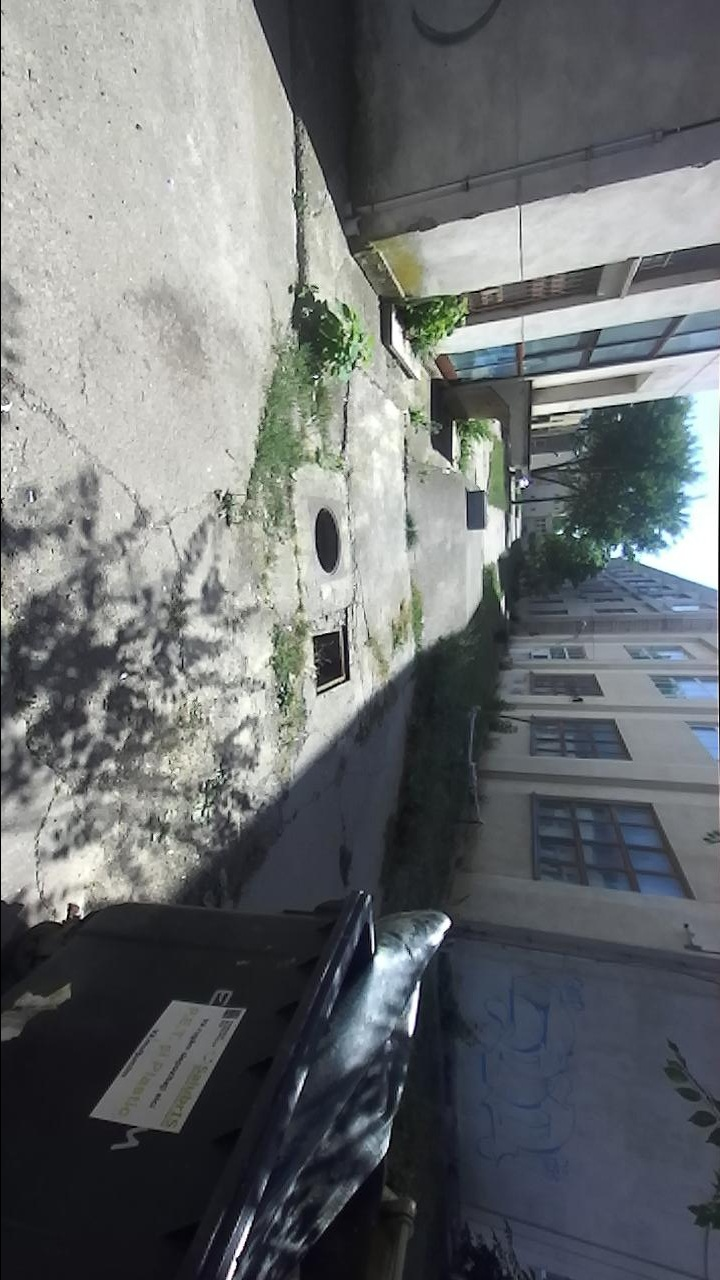drain: (307, 610, 353, 699), (313, 502, 345, 577)
